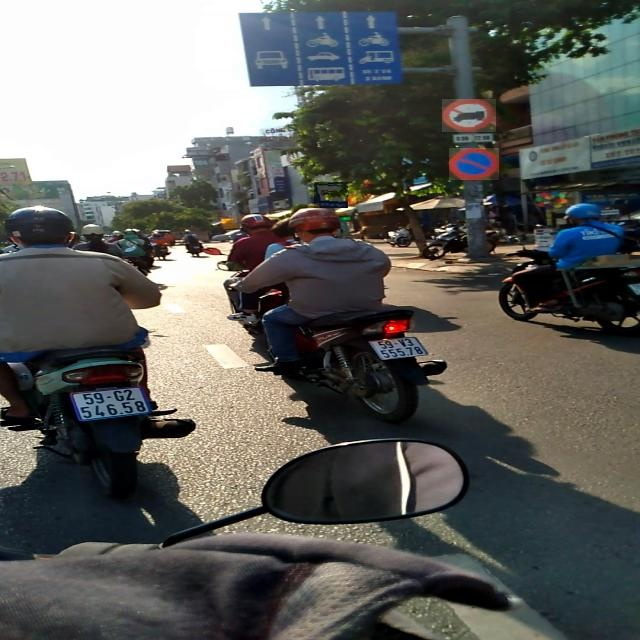bien_cam: (442, 99, 496, 132), (449, 148, 499, 180), (314, 182, 348, 208)
